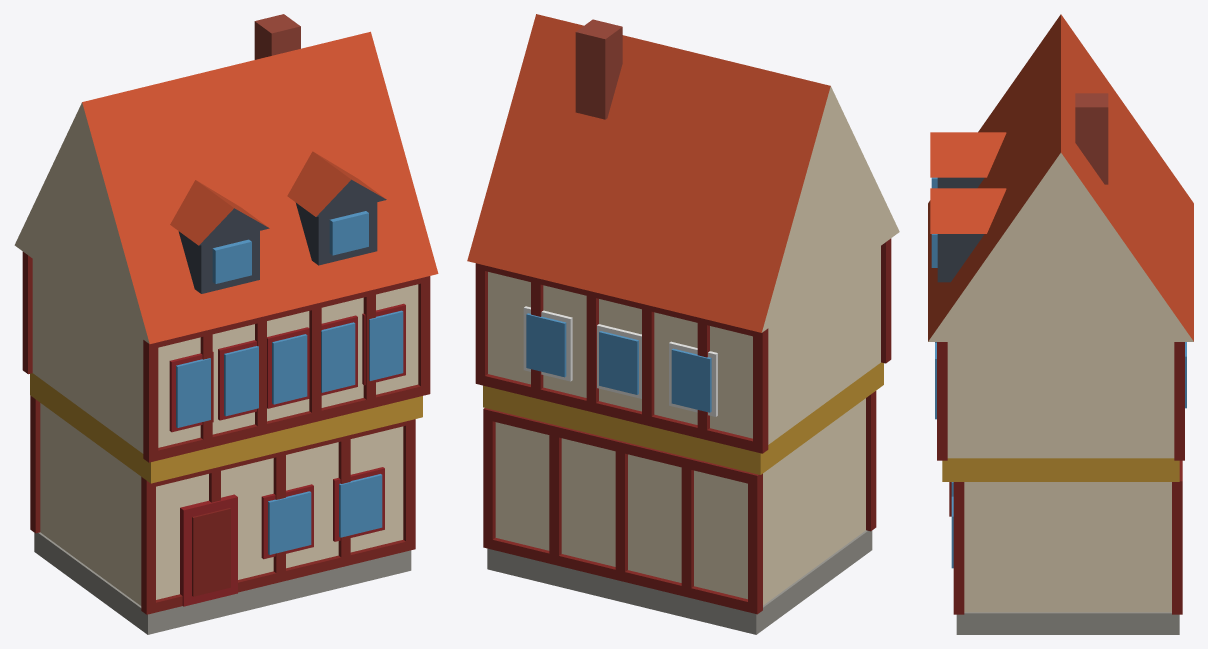
Rendered from 08_quedlinburg_fachwerk_2.obj.
3 views of the same model, side by side, from view 1: azimuth 30°, elevation 25°; view 2: azimuth 150°, elevation 25°; view 3: azimuth 270°, elevation 25° (orthographic). The views are drawn at different scales.
Parts seen in each view (by area): view 1: 08_quedlinburg_fachwerk_2; view 2: 08_quedlinburg_fachwerk_2; view 3: 08_quedlinburg_fachwerk_2.
Part boxes in pixels (bbox=[...]): 08_quedlinburg_fachwerk_2: bbox=[14, 14, 438, 634]; 08_quedlinburg_fachwerk_2: bbox=[467, 14, 899, 634]; 08_quedlinburg_fachwerk_2: bbox=[928, 14, 1193, 634].
Size of the model in its own units: 1.38 by 2.34 by 1.12.
